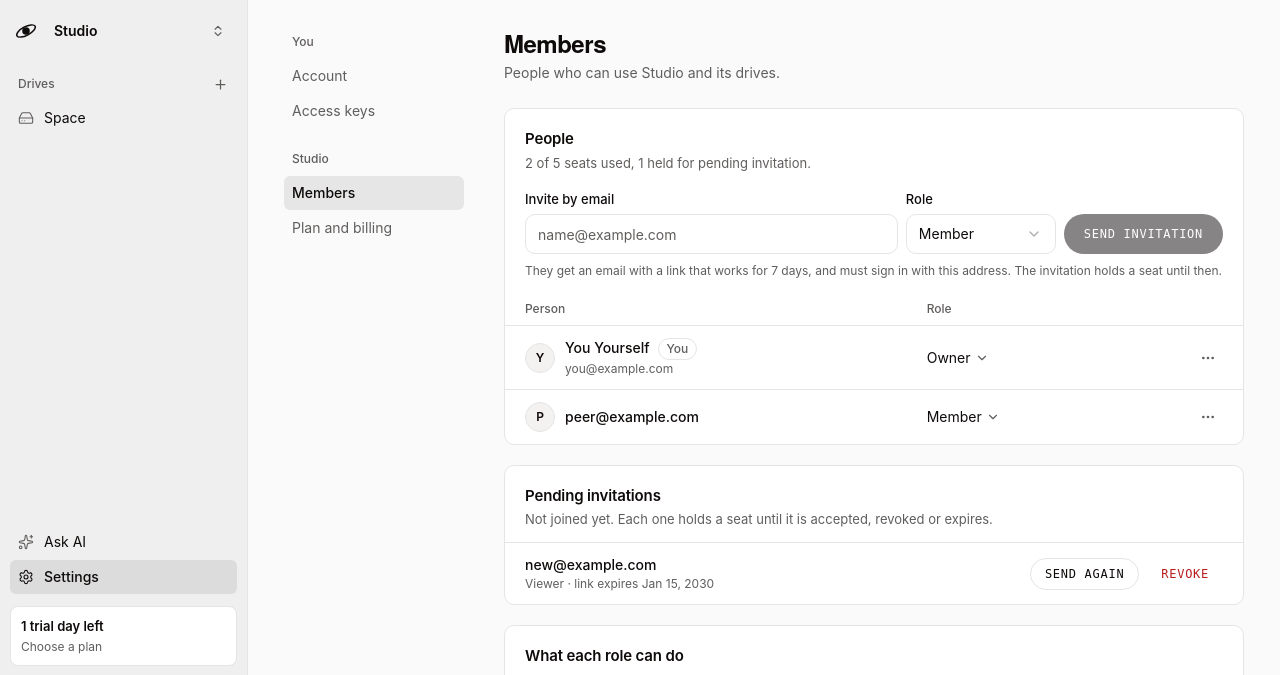
it: revokes a pending invitation, and sends one again by replacing it
This screenshot has width=1280, height=675.
Click the button with aria-label "Revoke invitation for new@example.com".
click(1185, 574)  # box x1=1147 y1=558 x2=1223 y2=590
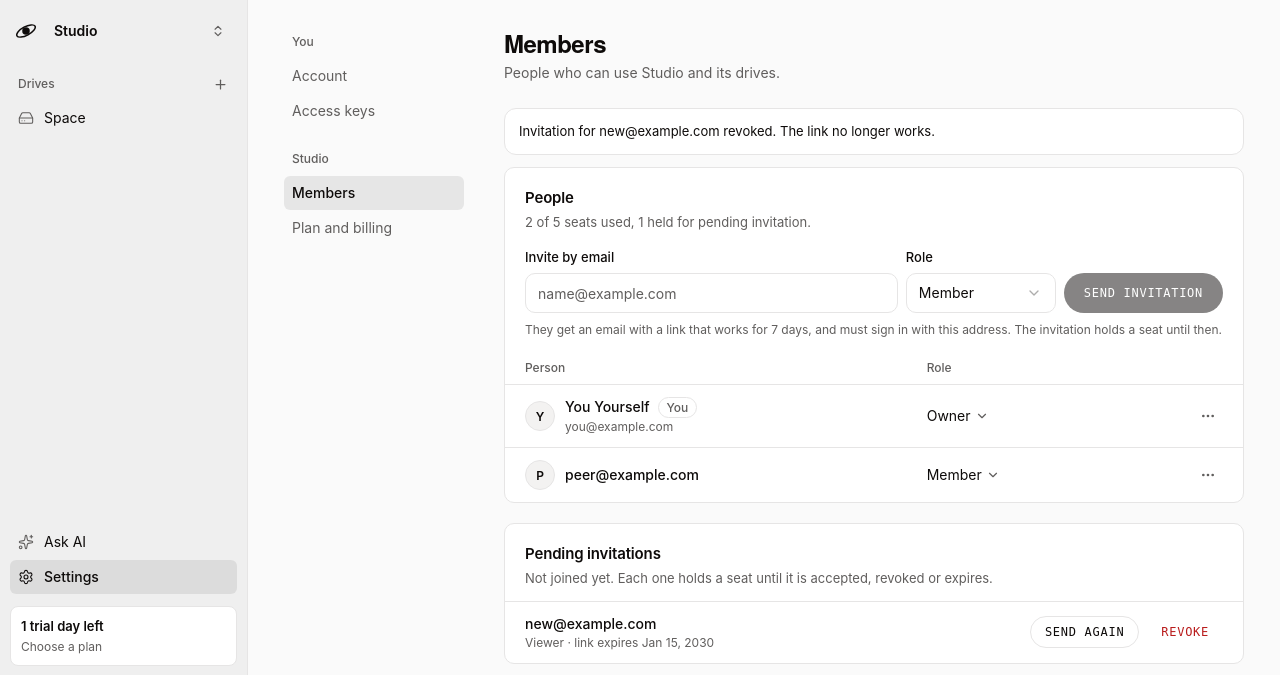
Expected: the text "Invitation for new@example.com revoked. The link no longer works." is shown, x1=504 y1=108 x2=1244 y2=155
Click the button with aria-label "Send again to new@example.com".
click(1085, 632)  # box x1=1030 y1=616 x2=1139 y2=648
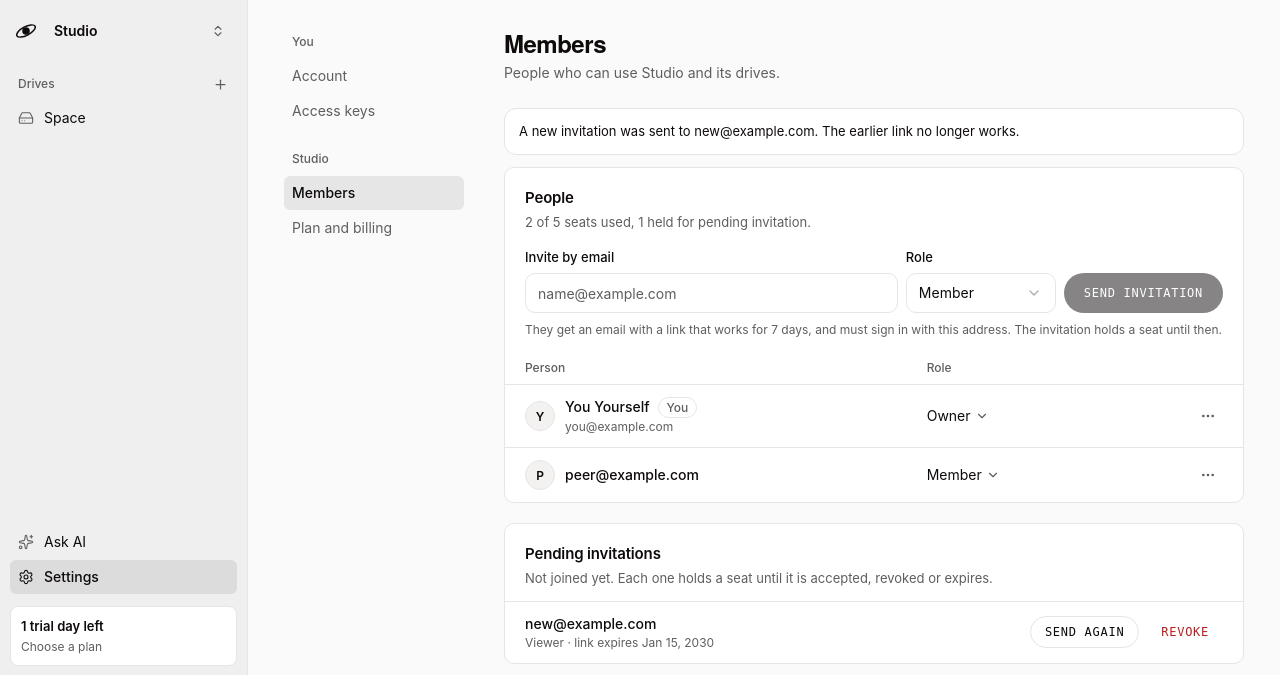
Expected: the text "A new invitation was sent to new@example.com. The earlier link no longer works." is shown, x1=504 y1=108 x2=1244 y2=155
Click the button with aria-label "Send again to new@example.com".
click(1085, 632)  # box x1=1030 y1=616 x2=1139 y2=648
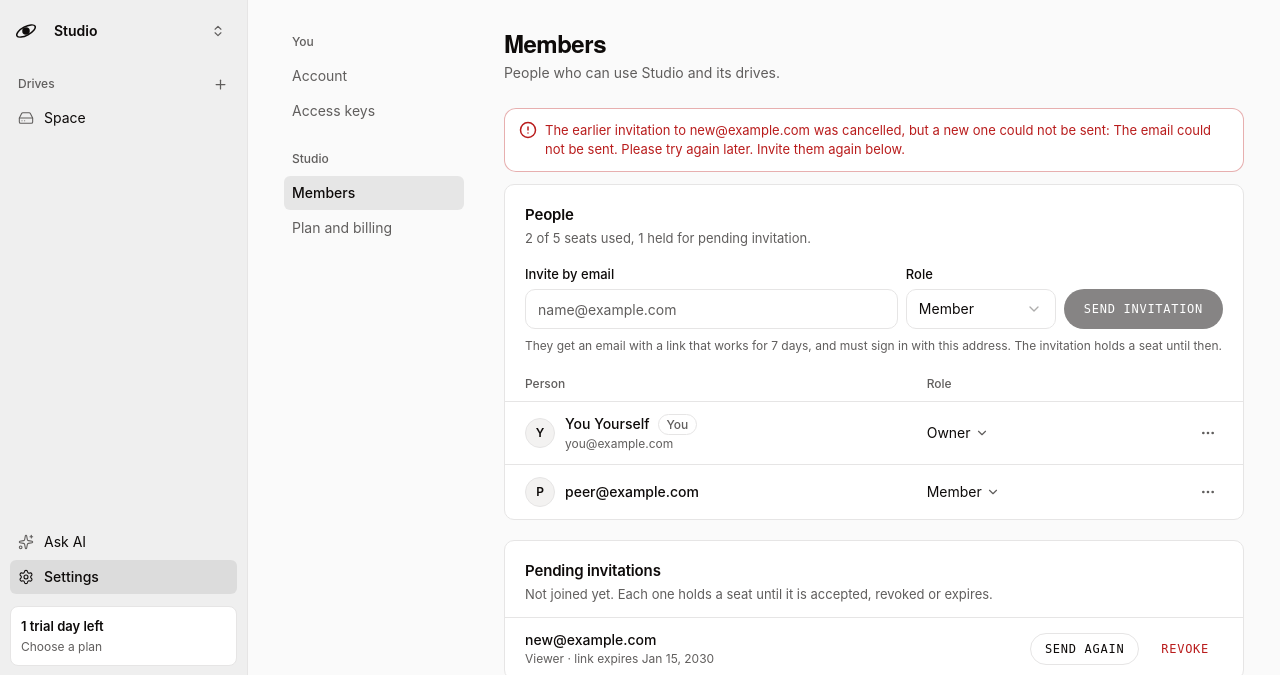
Expected: the message shows "The earlier invitation to new@example.com was cancelled, but a new one could not be sent", x1=545 y1=122 x2=1211 y2=157
